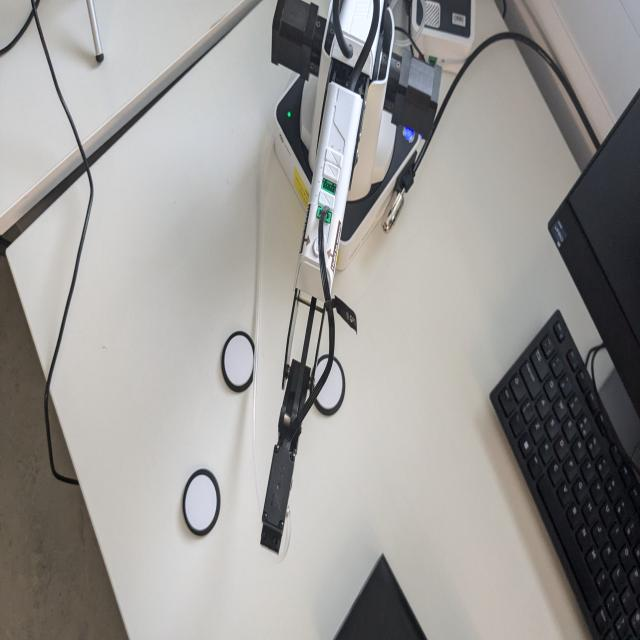Robot-end-effector-HF8z: (256, 419, 302, 558)
